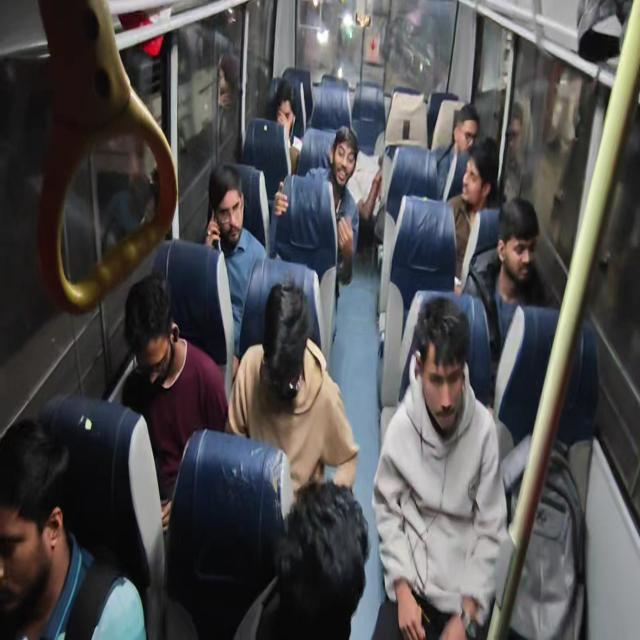person: (276, 483, 375, 639), (2, 421, 72, 611), (409, 289, 488, 435), (253, 274, 319, 410), (118, 280, 188, 396), (492, 191, 548, 293), (209, 162, 255, 262), (455, 139, 496, 218), (329, 118, 359, 200), (272, 72, 302, 144), (451, 100, 481, 156)
